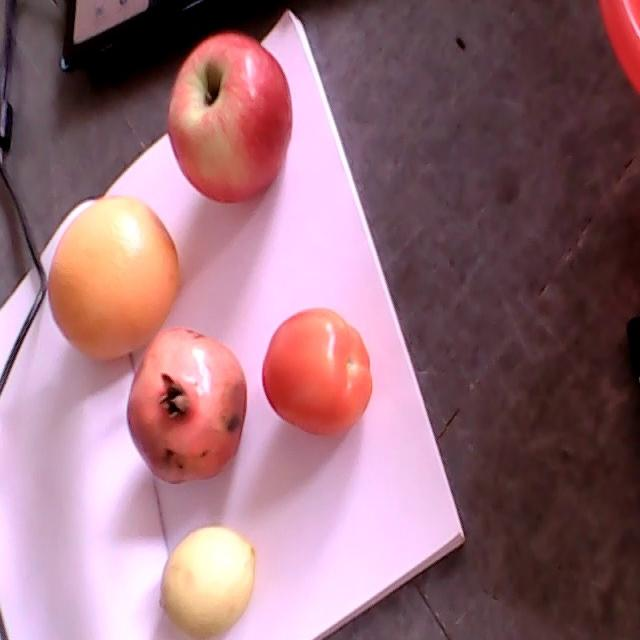apple: (166, 32, 293, 207)
lemon: (162, 524, 254, 637)
orange: (49, 196, 182, 365)
pomegranate: (128, 326, 247, 486)
tomato: (260, 310, 373, 440)
